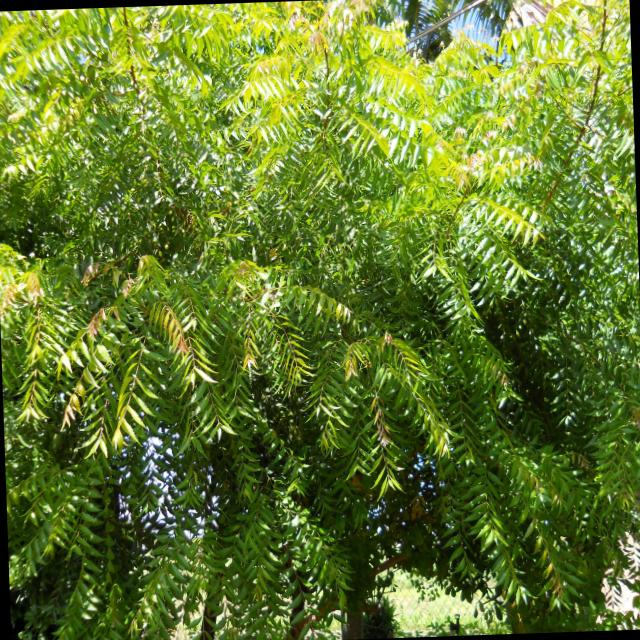Medicinal-Neem: (41, 176, 470, 502), (447, 62, 640, 618), (205, 13, 442, 225), (12, 492, 340, 640), (0, 7, 201, 189)
